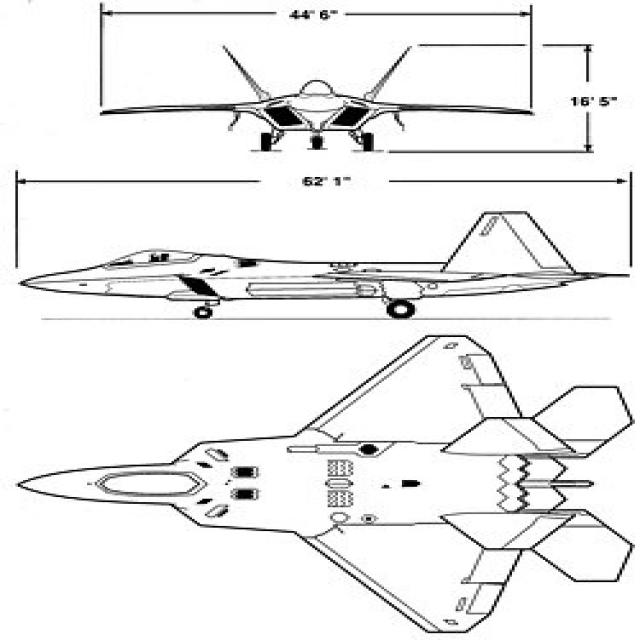F22: (0, 313, 640, 640), (18, 220, 640, 382)
